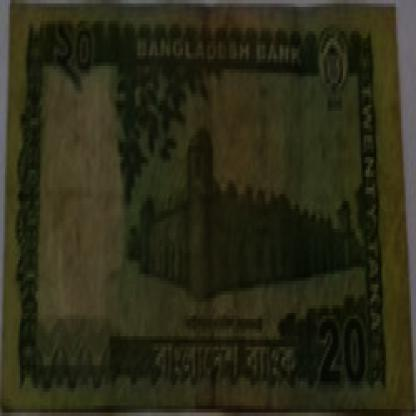Twenty: (311, 305, 371, 399), (50, 17, 108, 100)
